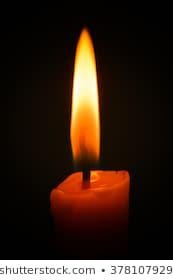fire: (70, 24, 101, 162)
